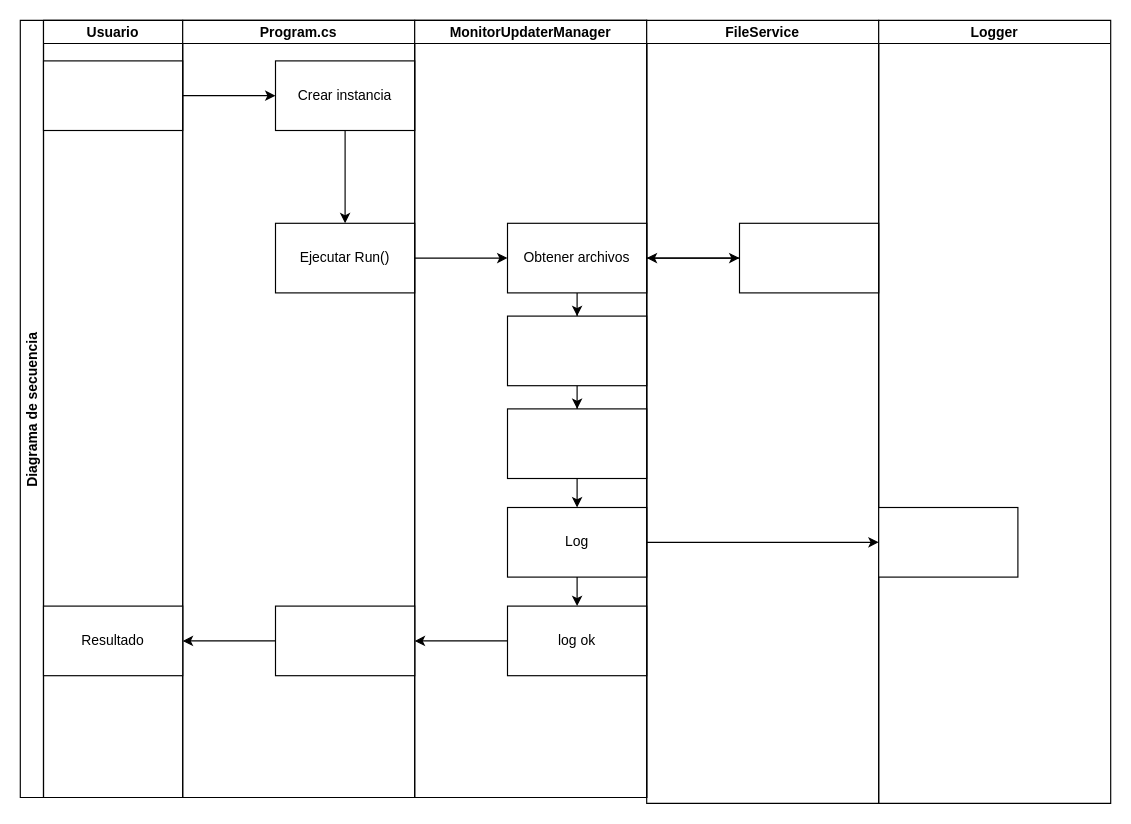
Image size: 1131x824. Some labels were removed from this diagram. The shapes that lost their labels are listed below. From the top down, each one's centre as x and y in pixels, then its label:
At pixel 112 95: "Ejecuta app".
At pixel 808 257: "Lista de archivos".
At pixel 576 350: "Por cada archivo compara y da resultado".
At pixel 576 443: "Si es nuevo o cambia lo copia".
At pixel 948 541: "Registra el mensaje".
At pixel 344 640: "Fin".
